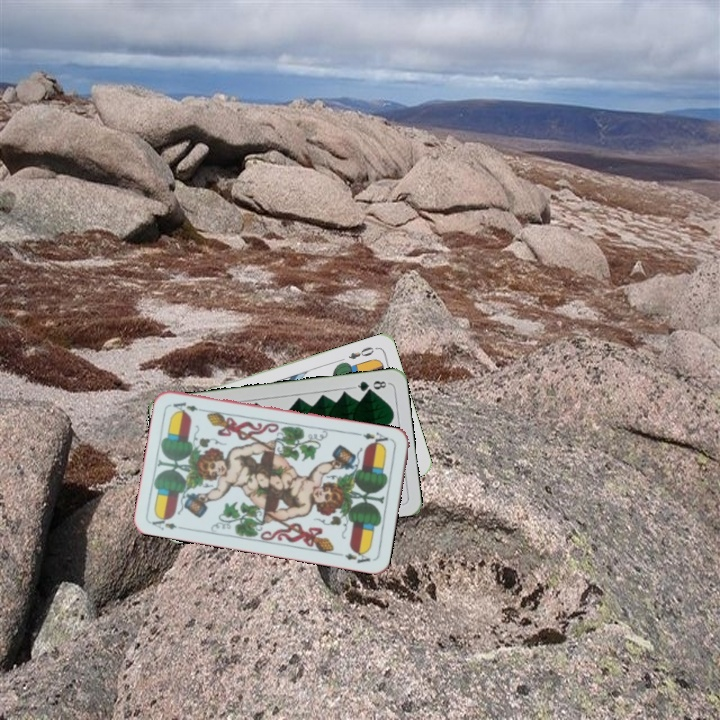EA: (354, 427, 395, 449), (148, 511, 188, 533)
EO: (344, 343, 380, 362)
G8: (350, 376, 391, 394)
